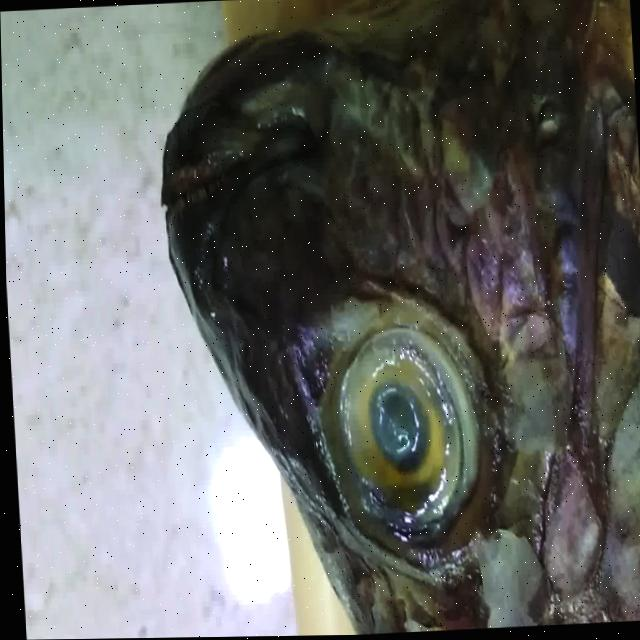Non-Fresh: (314, 307, 494, 528)
